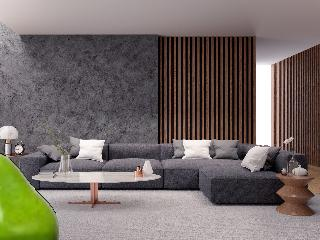pear: (0, 154, 60, 240)
